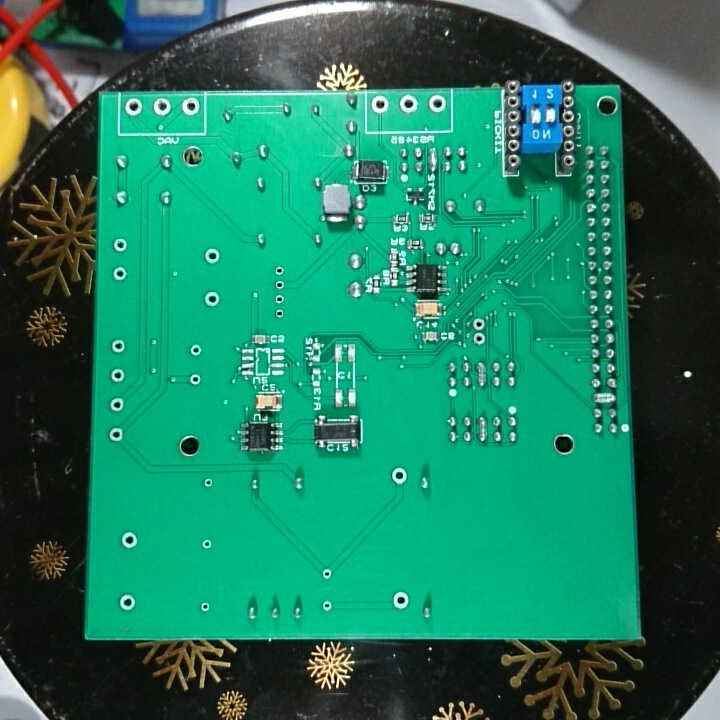F: (425, 90, 447, 118), (150, 95, 173, 121), (388, 463, 411, 489), (117, 528, 141, 552), (179, 95, 202, 120), (109, 232, 130, 259), (396, 93, 418, 118), (390, 589, 411, 614), (104, 394, 129, 414), (369, 94, 392, 115), (201, 246, 222, 268), (105, 423, 127, 444), (123, 97, 144, 118), (109, 264, 130, 285), (107, 366, 129, 386), (117, 592, 138, 612), (203, 289, 222, 310), (107, 335, 128, 354), (187, 341, 204, 359), (271, 306, 289, 323), (188, 370, 204, 389), (199, 536, 215, 555), (471, 315, 488, 332), (471, 332, 489, 347), (273, 262, 289, 278), (319, 598, 334, 615), (201, 476, 216, 492), (198, 598, 212, 615), (320, 566, 334, 583), (272, 291, 287, 306), (273, 277, 287, 292)
P: (475, 411, 490, 446), (427, 146, 441, 178), (592, 390, 617, 406), (474, 360, 487, 389)
